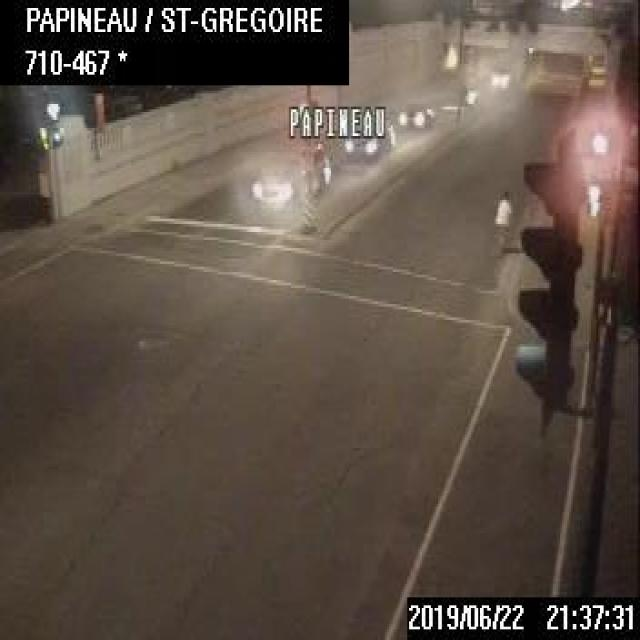cyclist: (491, 186, 513, 258)
vehicle: (249, 138, 331, 202), (342, 118, 393, 158), (398, 99, 435, 125)
